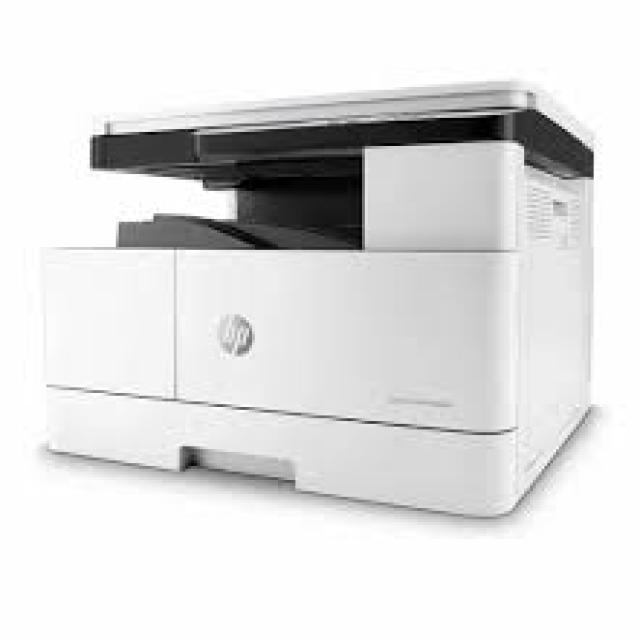printer: (38, 76, 596, 519)
